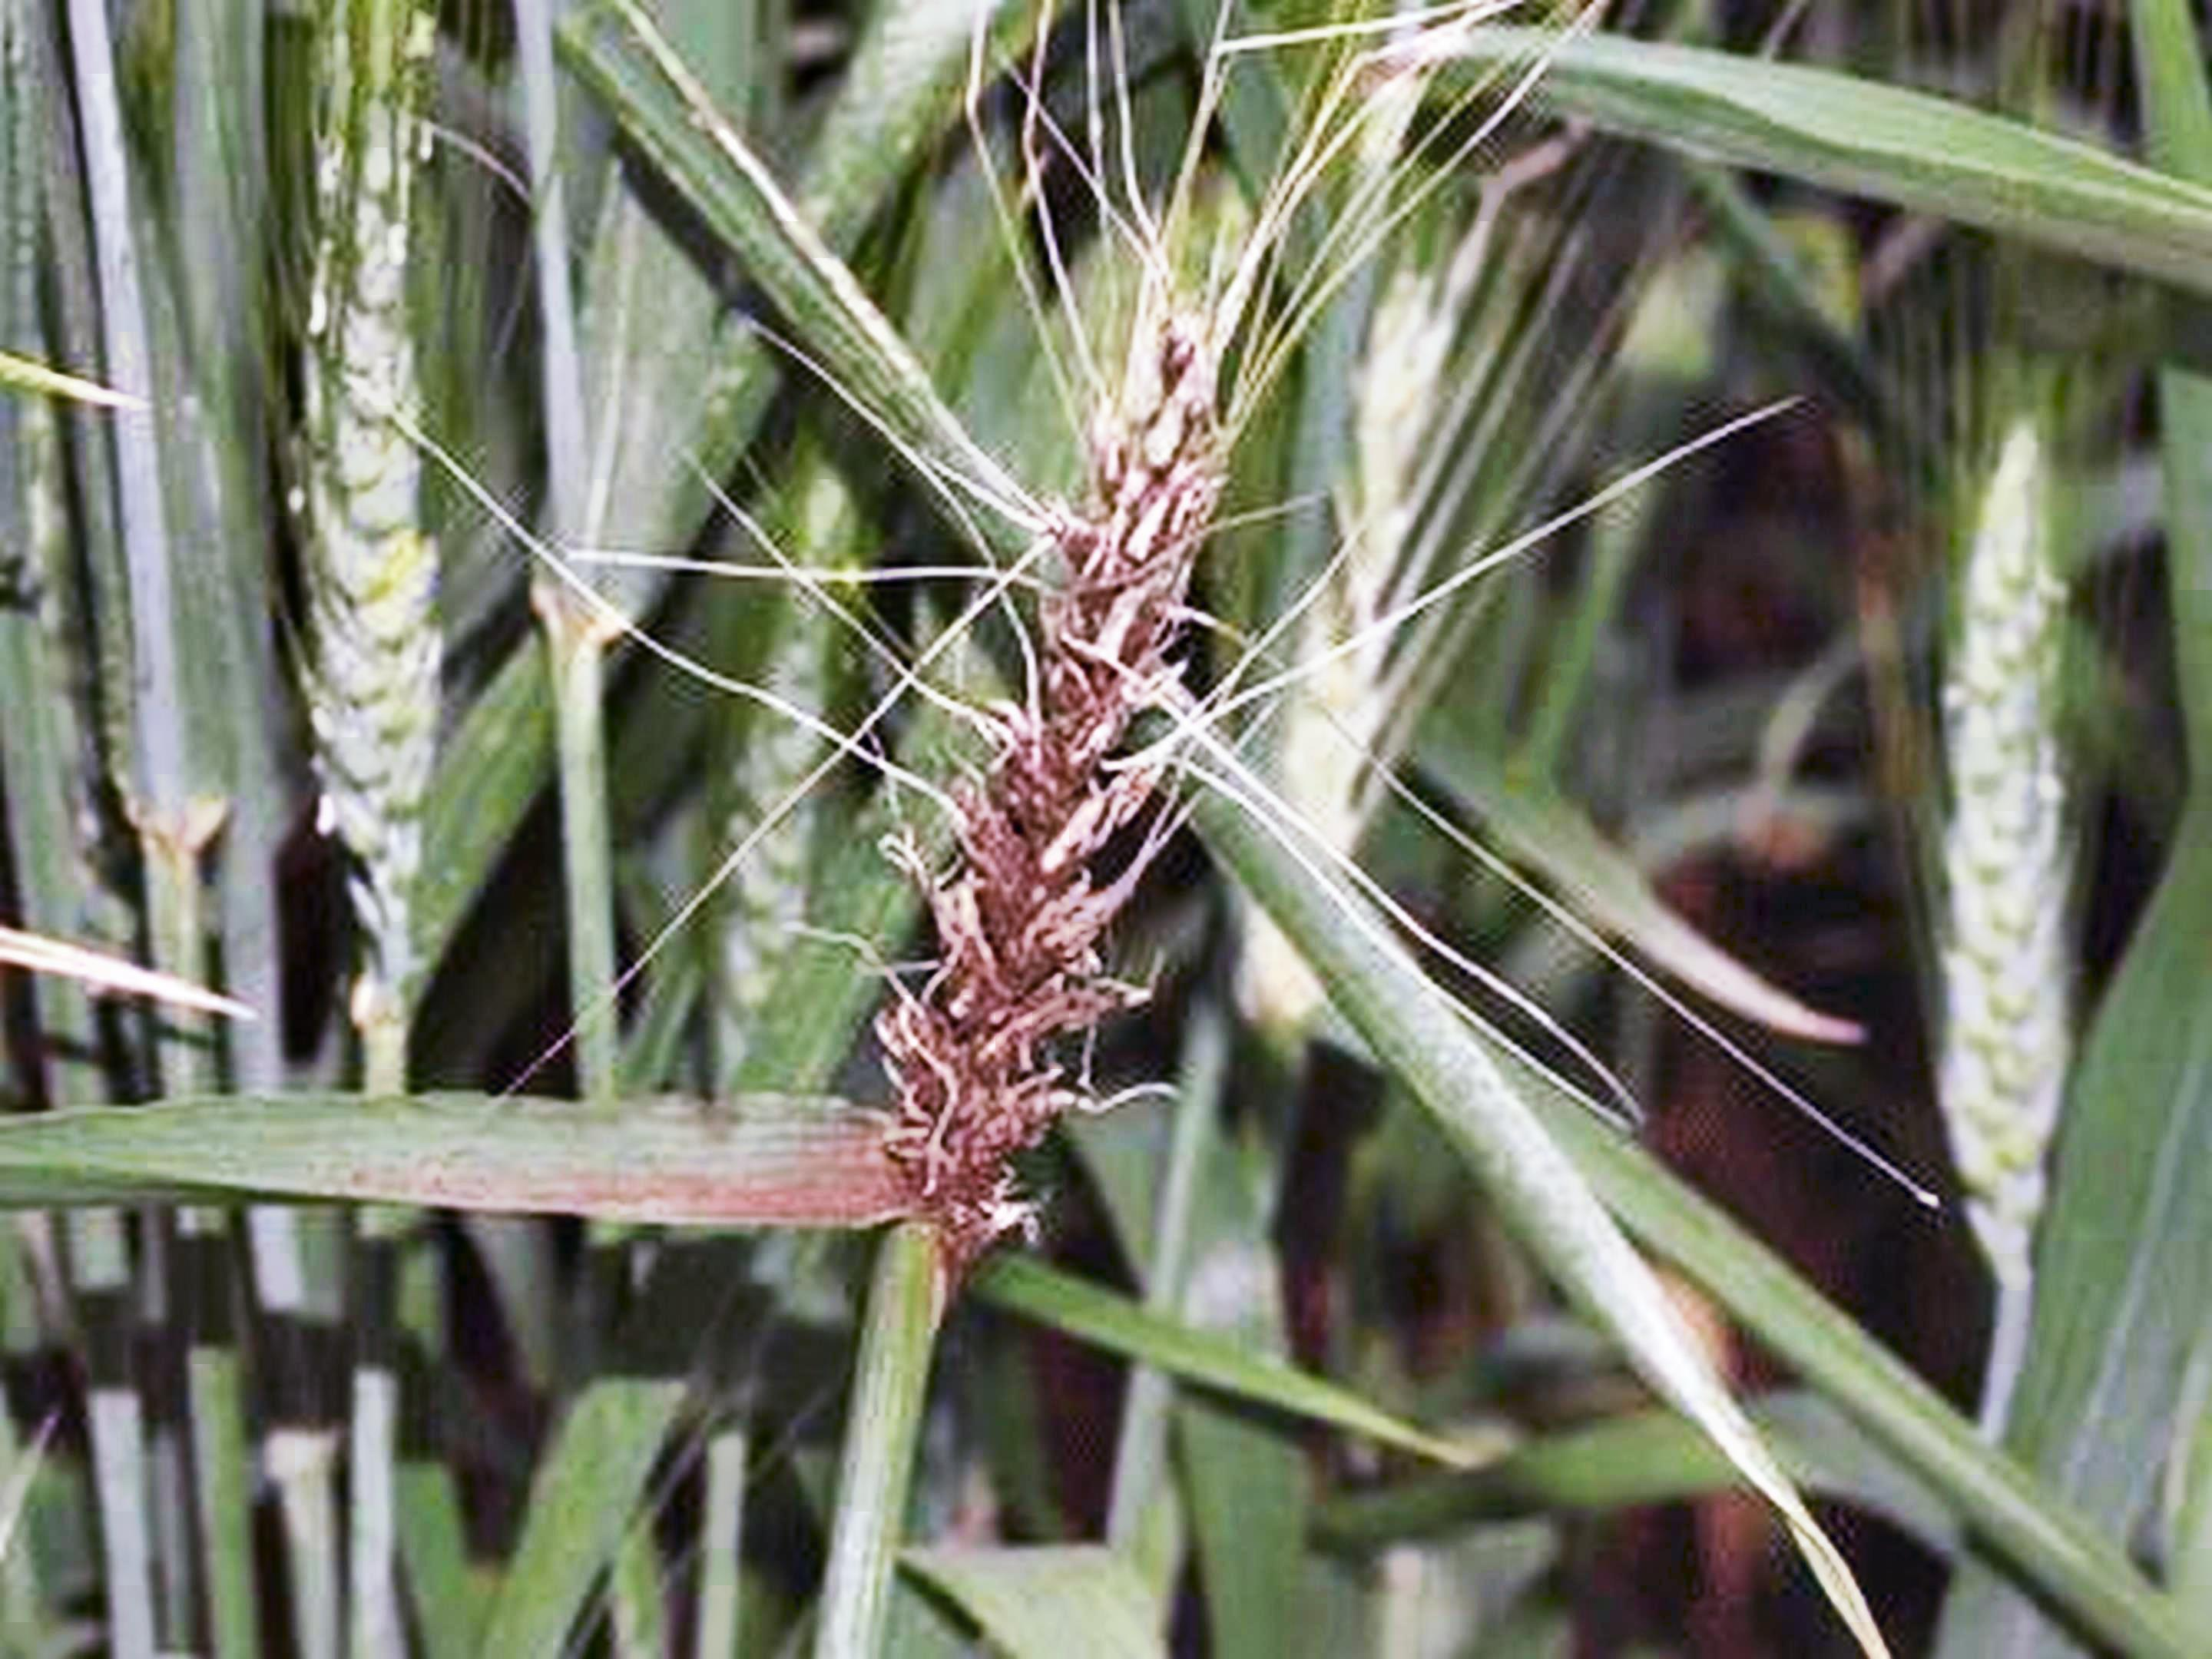Wheat Loose Smut: (918, 349, 1247, 1237)
